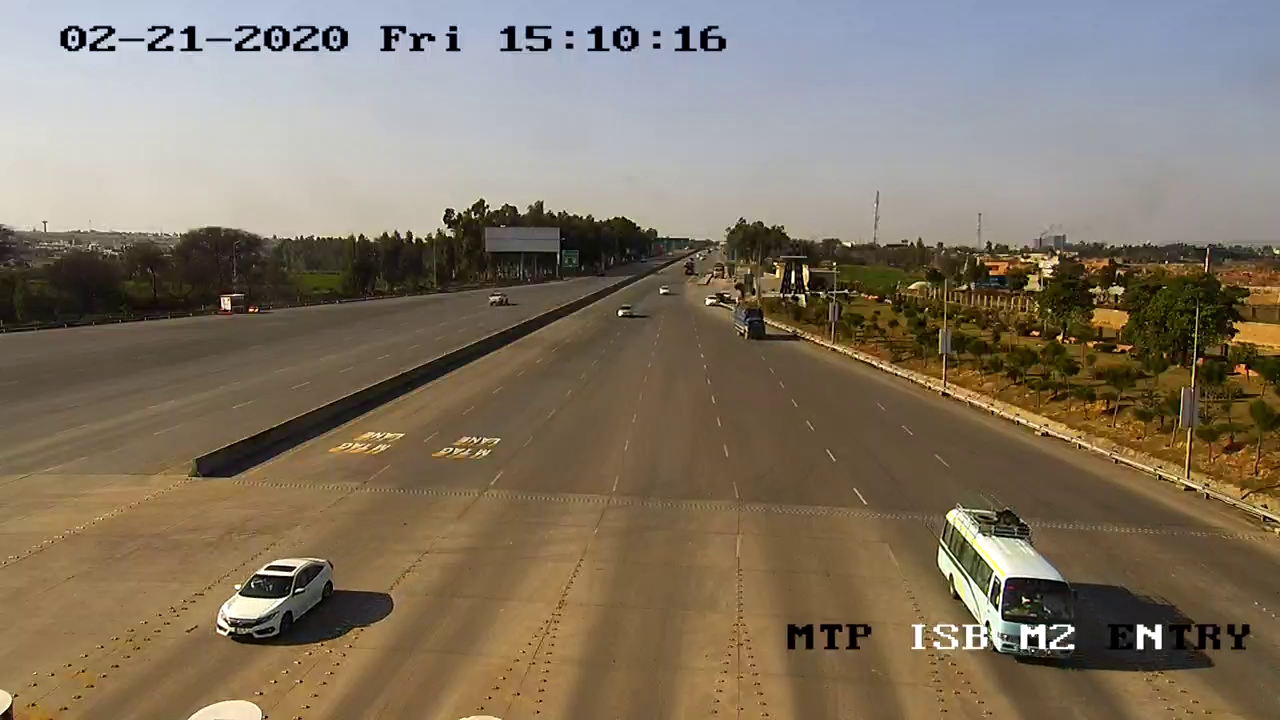f1: (208, 548, 347, 649)
f3: (934, 497, 1085, 664)
